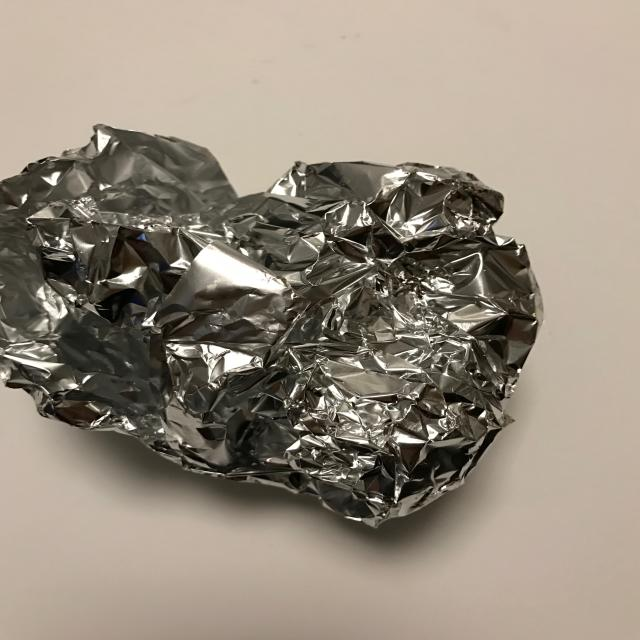metal: (0, 123, 544, 528)
